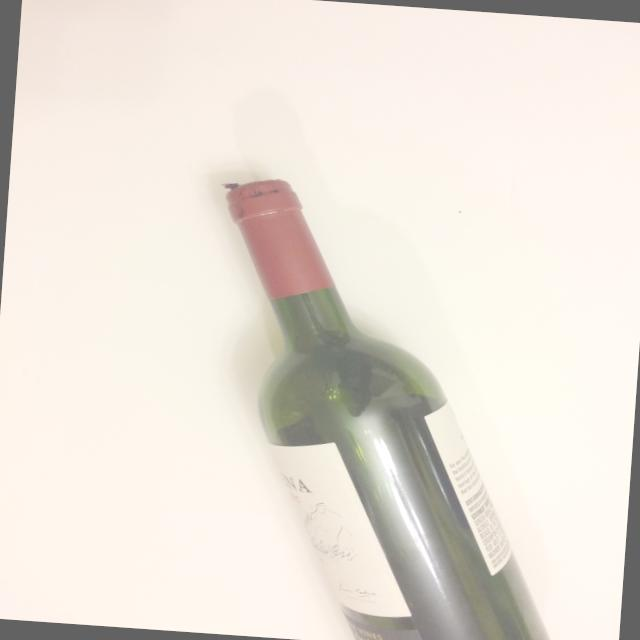Glass: (184, 162, 594, 640)
